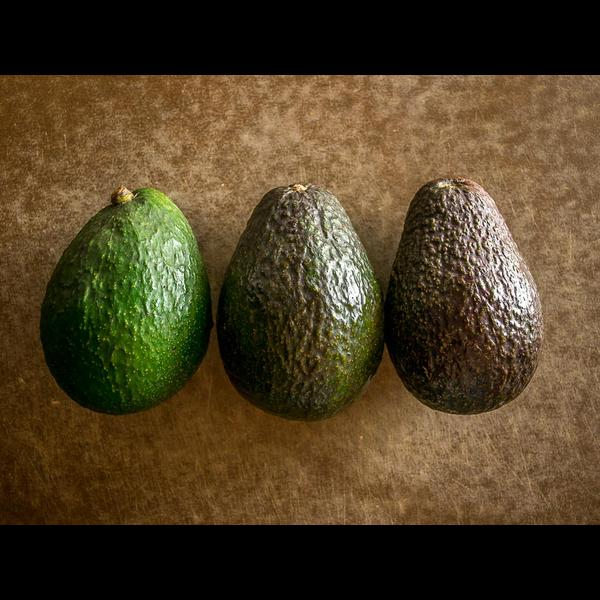almost: (217, 183, 384, 421)
ripe: (384, 177, 543, 415)
unripe: (40, 187, 213, 416)
